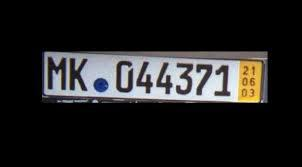0: (114, 60, 135, 93)
1: (212, 63, 233, 98)
3: (173, 62, 195, 96)
4: (134, 60, 154, 95), (155, 61, 175, 95)
7: (194, 64, 214, 96)
K: (66, 58, 90, 91)
M: (44, 54, 68, 93)
